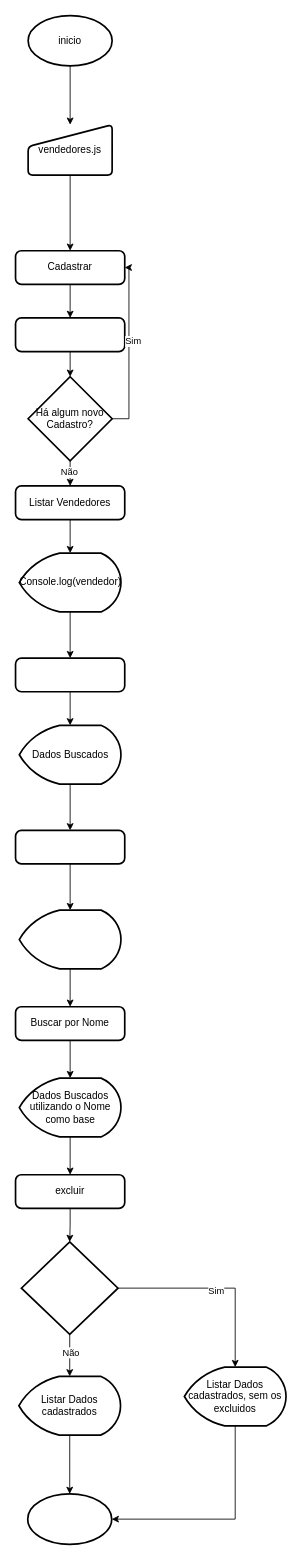
Some shapes in this 301 by 1559 pixel diagram are drawn without their labels. The shapes that lost their labels are listed below. From the top down, each one's centre as x and y in pixels, then its label:
At (69,334): "vendedores.push".
At (69,674): "Busca".
At (69,846): "Buscar por Matricula".
At (69,939): "Dados Buscados utilizando a Matricula como base".
At (69,1288): "Há algum item excluido pela Matrícula?".
At (69,1519): "Fim".
